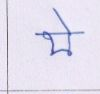e_matra: (51, 8, 74, 32)
